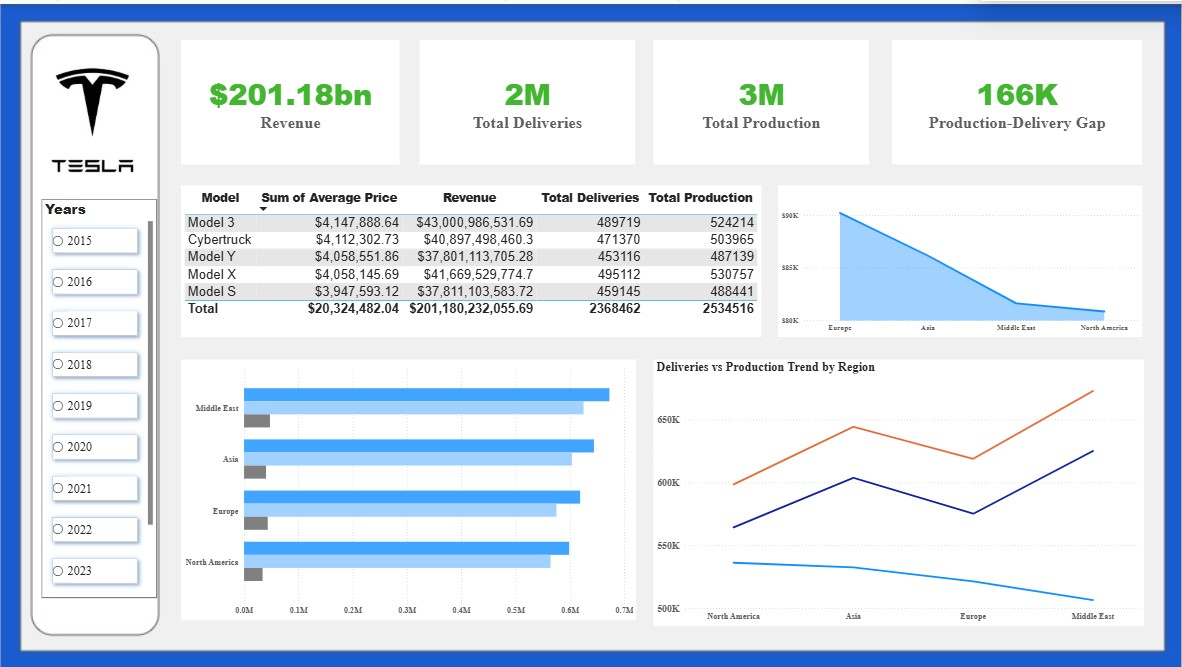

What the dashboard file says about the page in this screenshot:
{"tool":"powerbi","page":{"name":"Tesla Business Performance Dashboard (2015–2025)","canvas":[1920,1080],"ordinal":0},"visuals":[{"type":"image","box":[53.9,79.7,206.3,213.3],"z":0},{"type":"card","fields":{"Values":["tesla_deliveries_data.Total Deliveries"]},"box":[683.2,58.4,350.1,201.8],"z":1000},{"type":"card","fields":{"Values":["tesla_deliveries_data.Total Production"]},"box":[1065,58.4,350.1,201.8],"z":2000},{"type":"card","fields":{"Values":["tesla_deliveries_data.Estimated Revenue"]},"box":[296.6,58.4,355,201.8],"z":3000},{"type":"card","fields":{"Values":["tesla_deliveries_data.Production-Delivery Gap"]},"box":[1451.6,58.4,406.1,201.8],"z":4000},{"type":"listSlicer","title":"Years","fields":{"Values":["tesla_deliveries_data.Year"]},"box":[63.2,325.3,189.5,647.4],"z":5000},{"type":"stackedAreaChart","fields":{"Category":["tesla_deliveries_data.Region"],"Y":["tesla_deliveries_data.Average Delivery Price"]},"box":[1266,294.6,591.6,245.9],"z":6000},{"type":"lineChart","title":"Deliveries vs Production Trend by Region","fields":{"Category":["tesla_deliveries_data.Region"],"Y":["Sum(tesla_deliveries_data.Charging_Stations)","tesla_deliveries_data.Total Deliveries","tesla_deliveries_data.Total Production"]},"box":[1064.2,577.9,795.8,432.6],"z":7000},{"type":"tableEx","fields":{"Values":["tesla_deliveries_data.Model","Sum(tesla_deliveries_data.Avg_Price_USD)","tesla_deliveries_data.Estimated Revenue","tesla_deliveries_data.Total Deliveries","tesla_deliveries_data.Total Production"]},"box":[297,294.6,942.2,245.9],"z":8000},{"type":"clusteredBarChart","fields":{"Category":["tesla_deliveries_data.Region"],"Y":["tesla_deliveries_data.Total Production","tesla_deliveries_data.Total Deliveries","tesla_deliveries_data.Production-Delivery Gap"]},"box":[296.8,577.9,739,423.2],"z":9000}]}

Visuals, with their boxes in screenshot pixels (x1, y1, x2, y2), scaled from the page's 1920x1080 canvas onto the 1182x667 screenshot:
image: bbox=(33, 49, 160, 181)
card - tesla_deliveries_data.Total Deliveries: bbox=(421, 36, 636, 161)
card - tesla_deliveries_data.Total Production: bbox=(656, 36, 871, 161)
card - tesla_deliveries_data.Estimated Revenue: bbox=(183, 36, 401, 161)
card - tesla_deliveries_data.Production-Delivery Gap: bbox=(894, 36, 1144, 161)
"Years" listSlicer: bbox=(39, 201, 156, 601)
stackedAreaChart - tesla_deliveries_data.Region x tesla_deliveries_data.Average Delivery Price: bbox=(779, 182, 1144, 334)
"Deliveries vs Production Trend by Region" lineChart: bbox=(655, 357, 1145, 624)
tableEx - tesla_deliveries_data.Model x Sum(tesla_deliveries_data.Avg_Price_USD): bbox=(183, 182, 763, 334)
clusteredBarChart - tesla_deliveries_data.Region x tesla_deliveries_data.Total Production: bbox=(183, 357, 638, 618)
